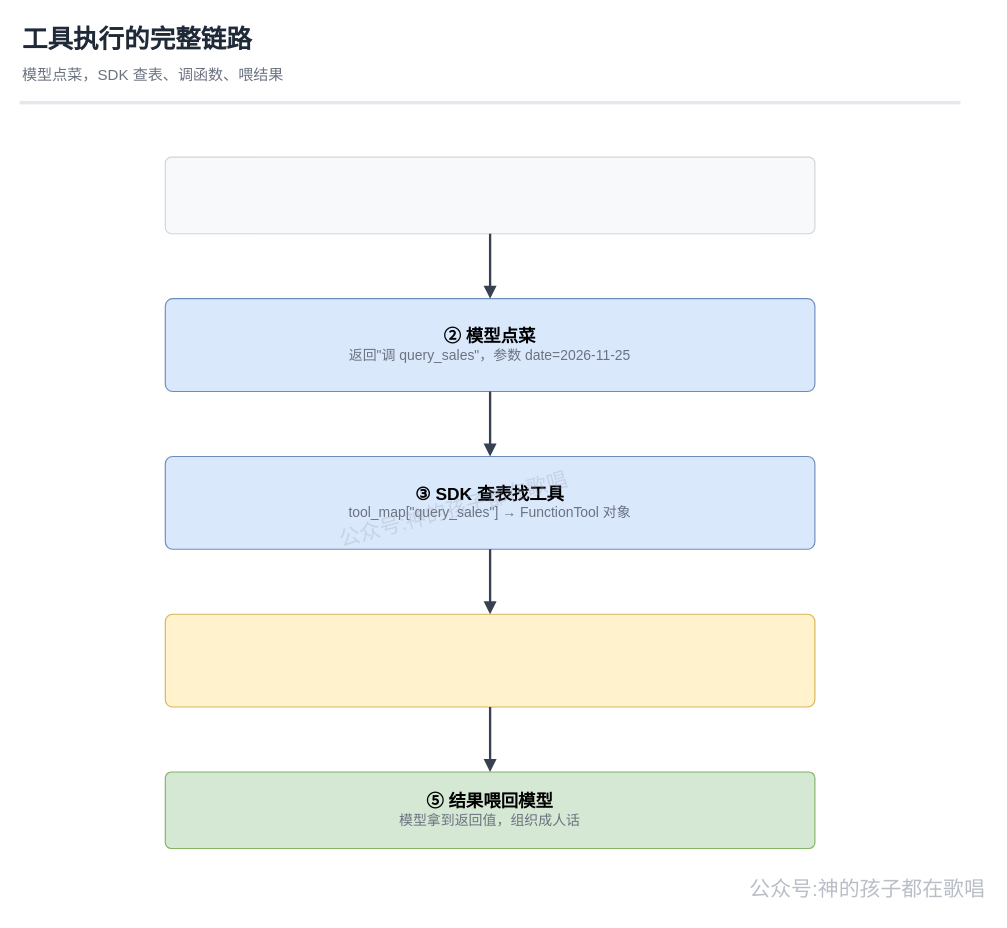
The diagram is 1007 pixels wide and 928 high, and some of its shapes have lost their labels. Here are the shapes that lost their labels. From the top down, the centre of each, then its label:
pixel 489 195: ① SDK 发工具清单给模型 name + description + 参数 schema，当菜单
pixel 489 660: ④ 调原函数 the_func("2026-11-25") → "138.2 万元"
